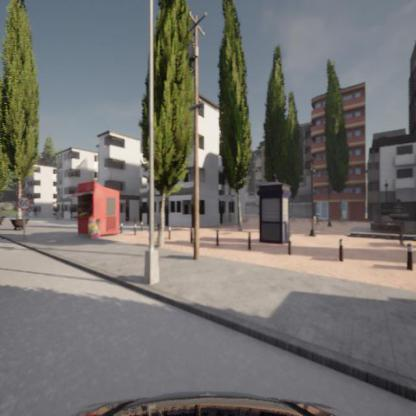traffic_sign_60: (18, 196, 31, 210)
